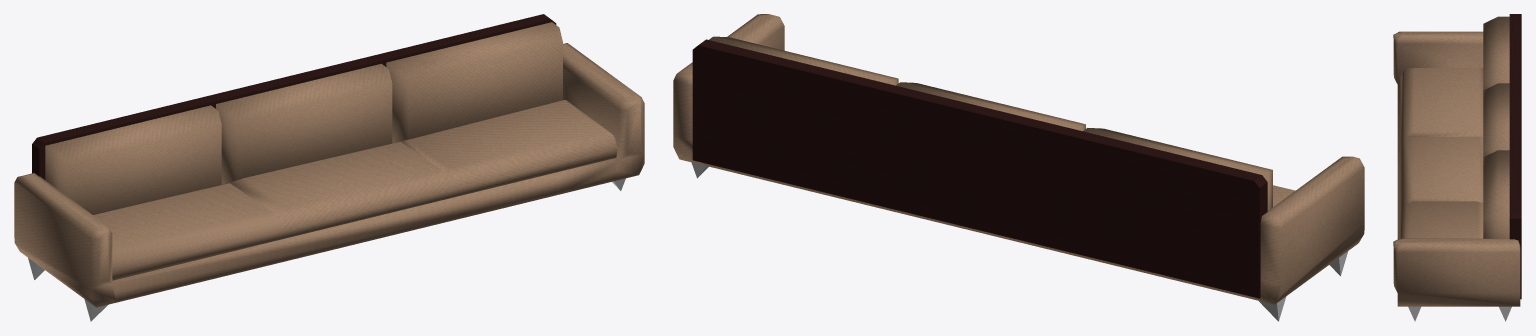
Rendered from Long_Sofa_G.FBX.
3 renders of one model, left to right at view 1: azimuth 30°, elevation 25°; view 2: azimuth 150°, elevation 25°; view 3: azimuth 270°, elevation 25°, orthographic. The views are drawn at different scales.
Parts seen in each view (by area): view 1: Long_Sofa; view 2: Long_Sofa; view 3: Long_Sofa.
Part boxes in pixels (<box>): Long_Sofa: <box>14,14,644,321</box>; Long_Sofa: <box>673,14,1364,321</box>; Long_Sofa: <box>1393,14,1521,321</box>.
Size of the model in its own units: 685 by 157 by 171.
